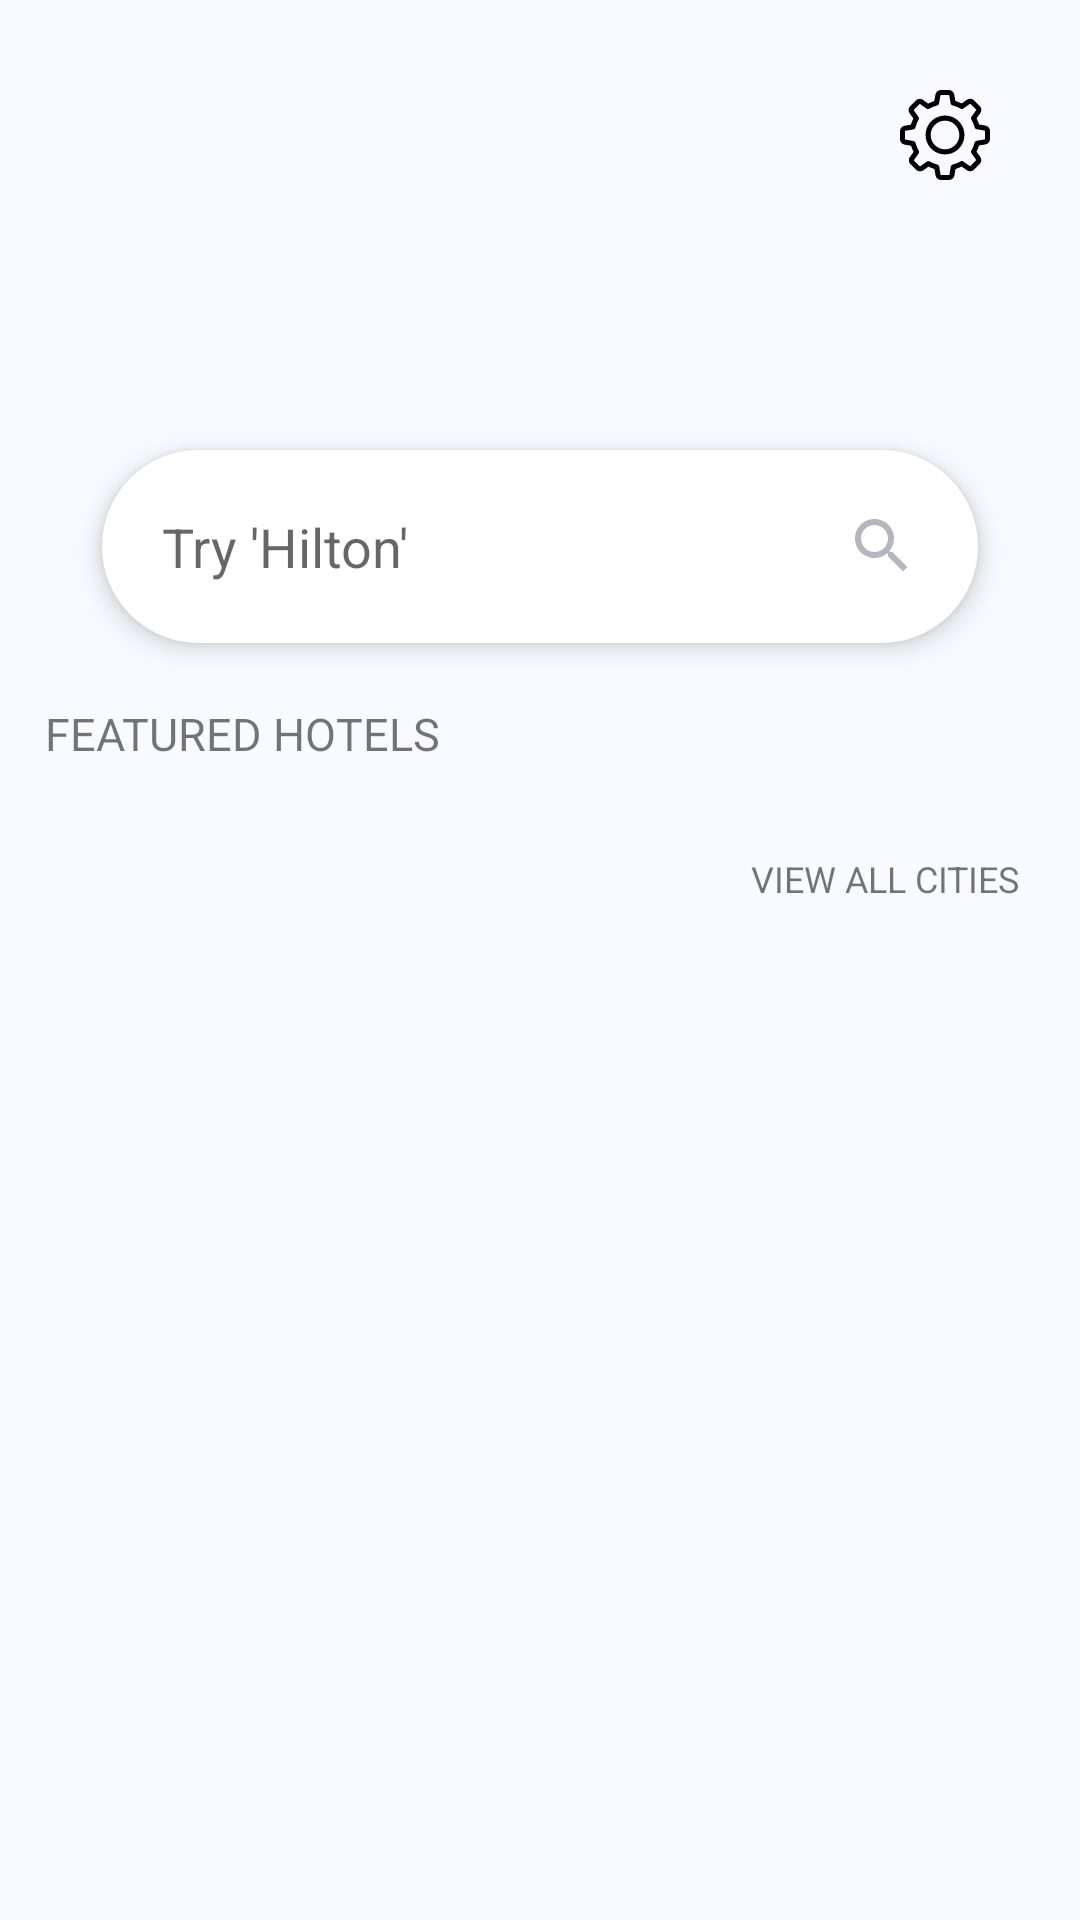

Where icons sit on this 1080 × 1920 app screen, as (x1, y1, x2, y2):
settings: (900, 90, 990, 180)
